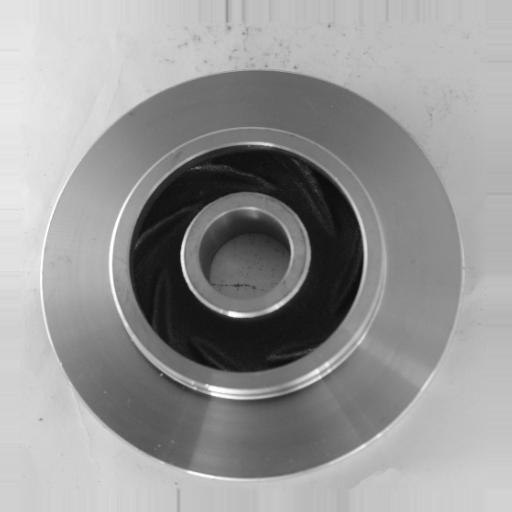polished_casting: (40, 69, 466, 482)
